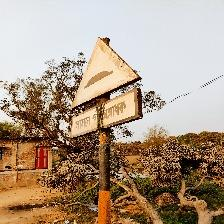Speed-breaker: (70, 37, 144, 137)
